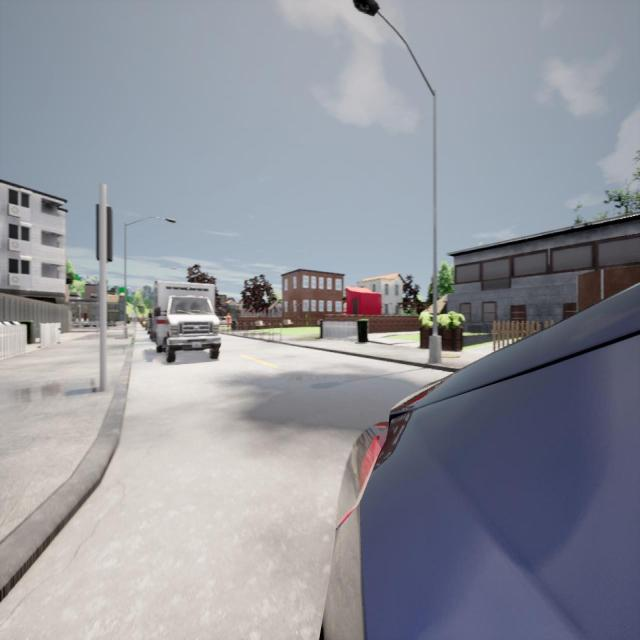Vehicle: (321, 279, 639, 640), (152, 281, 220, 362)
traffic_light: (95, 203, 113, 262)
